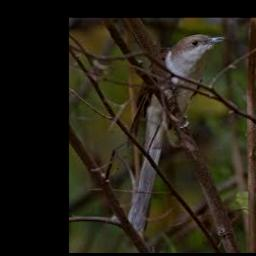Cuckoo: (125, 34, 223, 228)
